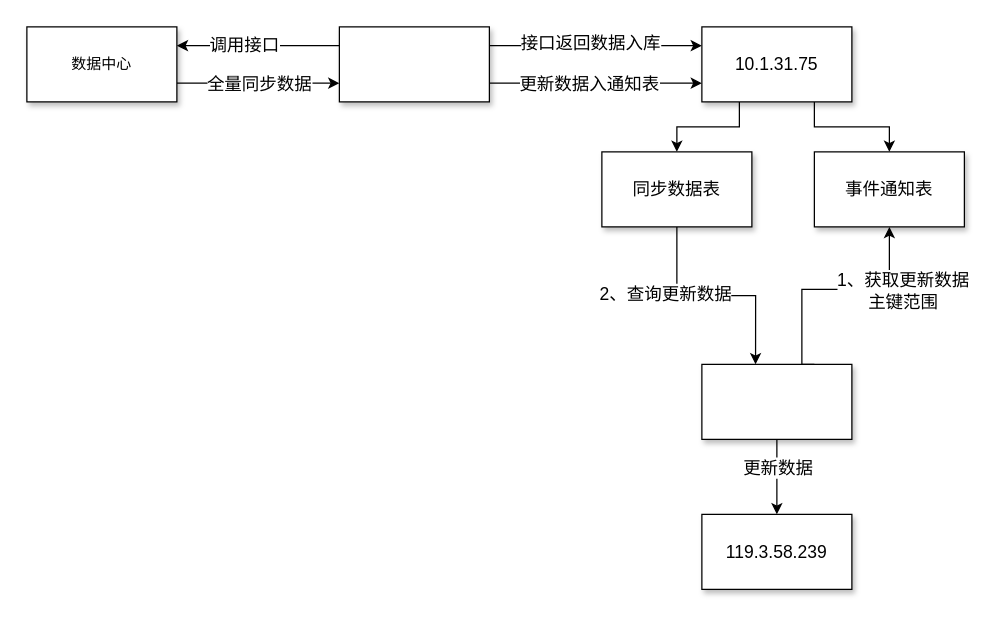
Some shapes in this 994 by 620 pixel diagram are drawn without their labels. The centre of each missing label's shape, as x and y in pixels:
"214数据同步" goes at (415,66).
"yz-58" goes at (777,403).
